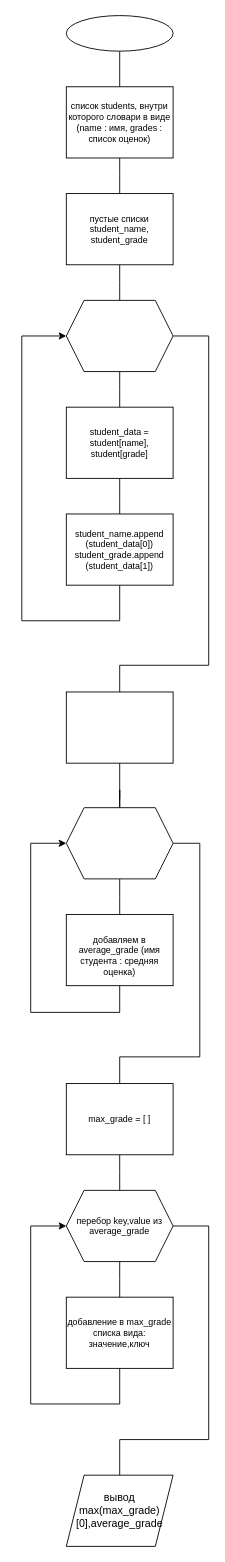
Image size: 225x1562. Some labels were removed from this diagram. The shapes that lost their labels are listed below. From the top down, each one's box as (x1, y1, x2, y2) in pixels, then its label:
(65, 15, 173, 51): Начало
(65, 299, 173, 372): for student in students
(65, 691, 173, 763): average_grade = {}
(65, 807, 173, 879): i = 0; i < len(student_grade)); i += 1
